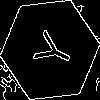Y: (25, 25, 76, 74)
